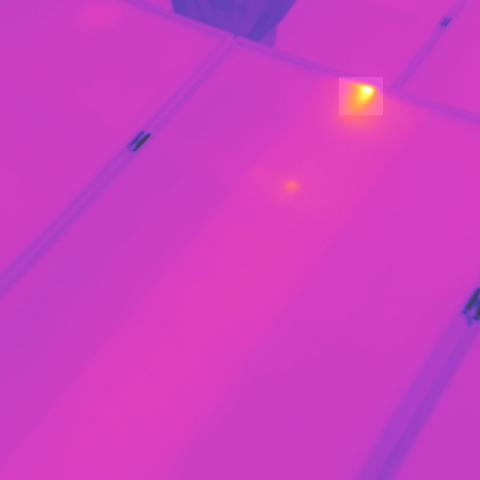fault: (339, 77, 383, 115)
